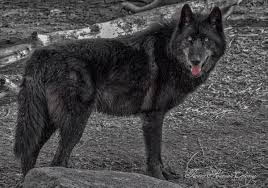Lobo: (14, 2, 231, 178)
